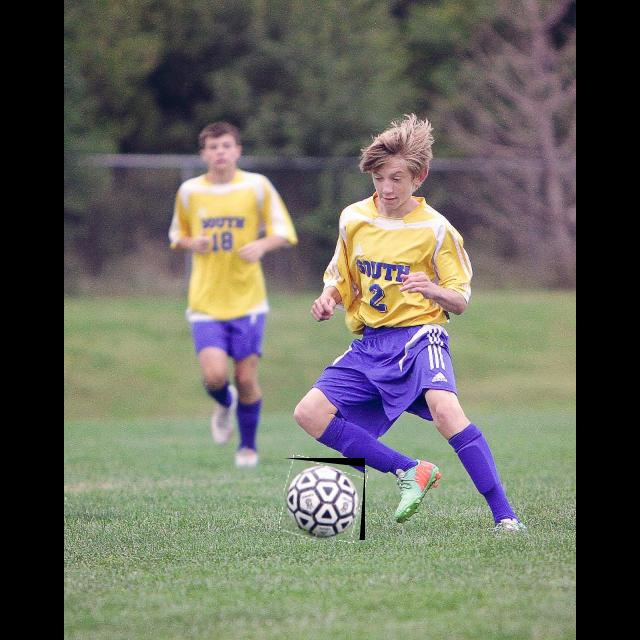Football: (283, 458, 365, 540)
